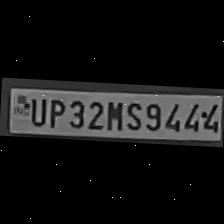2: (84, 96, 104, 130)
3: (64, 96, 86, 128)
4: (197, 99, 219, 133), (162, 98, 182, 132), (180, 98, 200, 132)
9: (141, 98, 163, 132)
M: (104, 97, 124, 131)
P: (44, 94, 66, 128)
S: (123, 97, 143, 130)
U: (27, 95, 46, 127)
